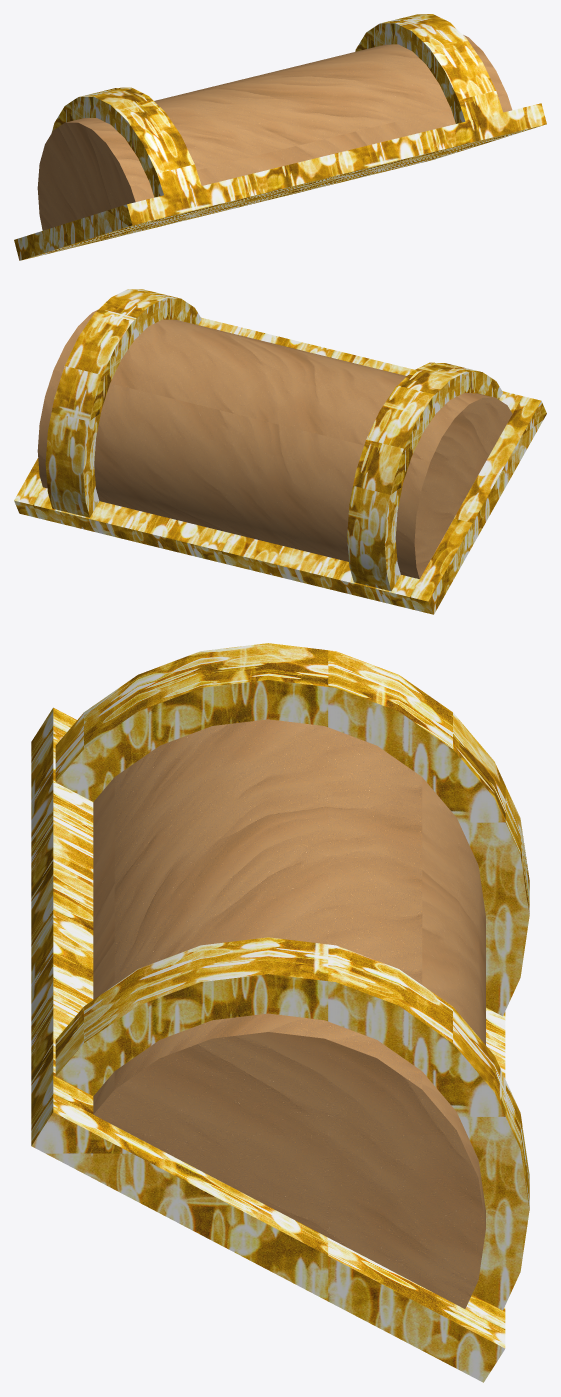
File: treasure_chest_top.obj
3 renders of one model, top to bottom at view 1: azimuth 30°, elevation 25°; view 2: azimuth 150°, elevation 25°; view 3: azimuth 270°, elevation 25°, orthographic. The views are drawn at different scales.
Visible parts, largest first — view 1: mergedBlocks; view 2: mergedBlocks; view 3: mergedBlocks.
Boxes of the visible parts, x1,y1,x2,y2 form: mergedBlocks: (14, 14, 546, 260); mergedBlocks: (14, 289, 546, 614); mergedBlocks: (31, 643, 529, 1382).
Size of the model in its own units: 2.2 by 0.9433 by 1.14.
Materials: 2 (2 with a texture image).
